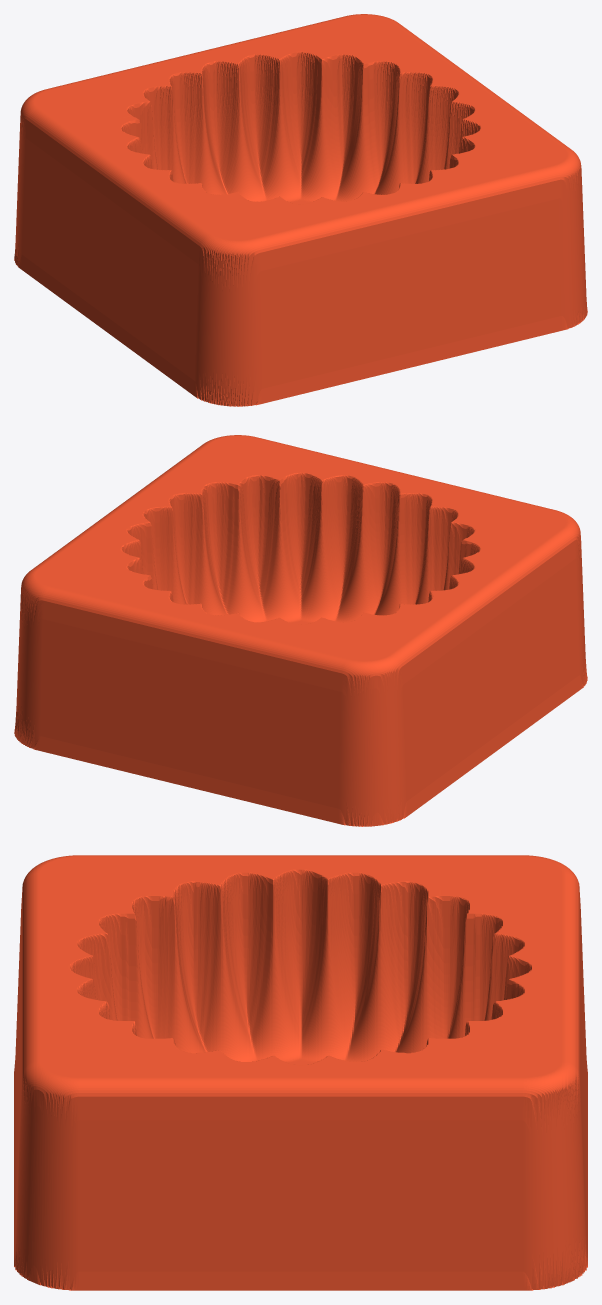
File: mold.glb
3 views of the same model, one above another, from view 1: azimuth 30°, elevation 25°; view 2: azimuth 150°, elevation 25°; view 3: azimuth 270°, elevation 25° (orthographic). The views are drawn at different scales.
Visible parts, largest first — view 1: geometry_0; view 2: geometry_0; view 3: geometry_0.
Part boxes in pixels (<box>): geometry_0: <box>14,14,587,406</box>; geometry_0: <box>14,435,587,826</box>; geometry_0: <box>14,855,587,1290</box>.
Bounding box in the file's own units: 0.0798 × 0.031 × 0.0798.
